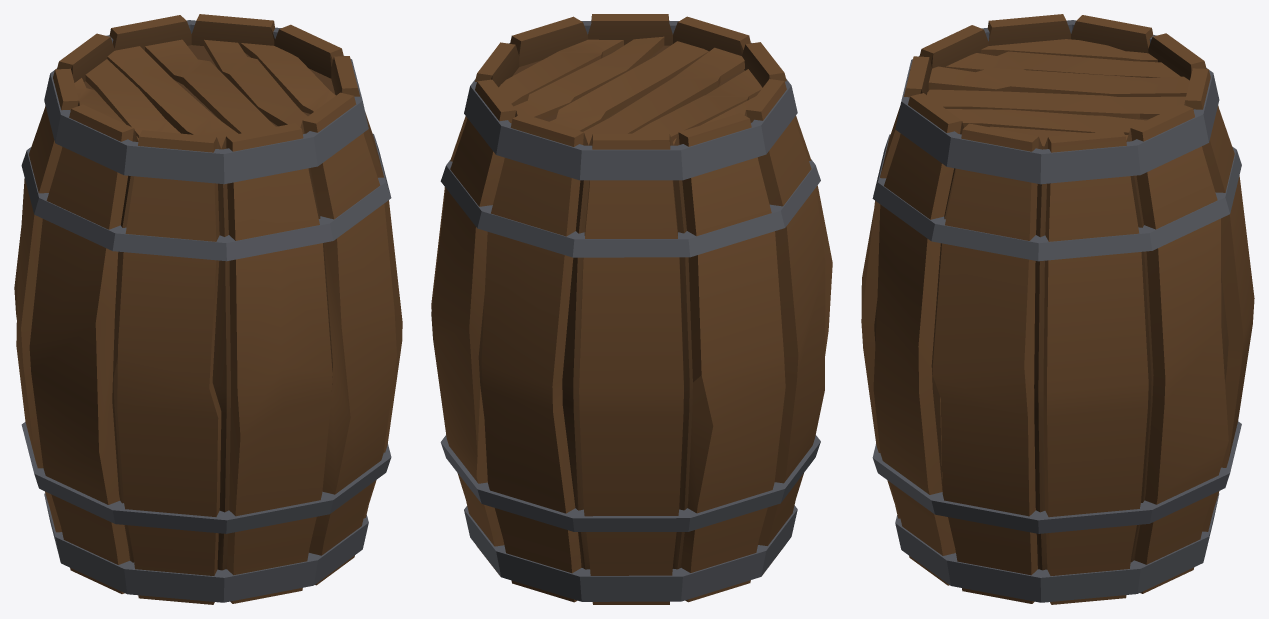
File: barrel.glb
3 renders of one model, left to right at view 1: azimuth 30°, elevation 25°; view 2: azimuth 150°, elevation 25°; view 3: azimuth 270°, elevation 25°, orthographic.
Parts seen in each view (by area): view 1: Barrel; view 2: Barrel; view 3: Barrel.
Part boxes in pixels (box(x1,y1,x2,y2)): Barrel: box(14, 14, 402, 604); Barrel: box(431, 14, 832, 604); Barrel: box(861, 14, 1254, 604).
Size of the model in its own units: 0.1582 by 0.2043 by 0.1568.
